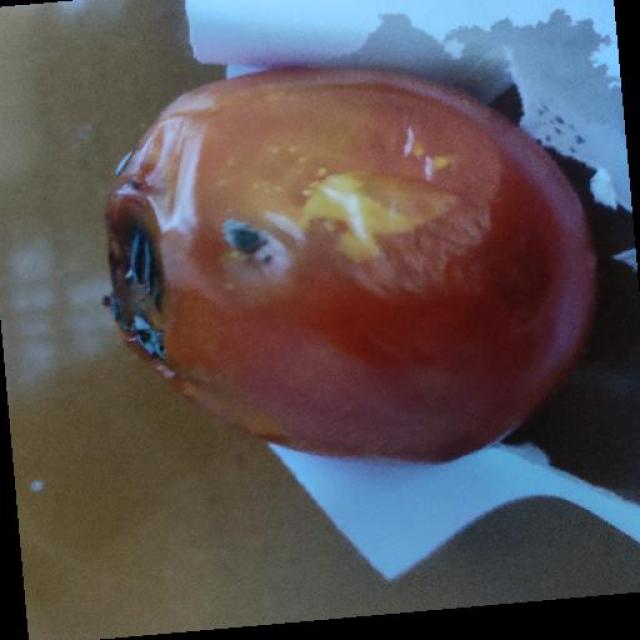Stale_tomato: (103, 59, 593, 457)
